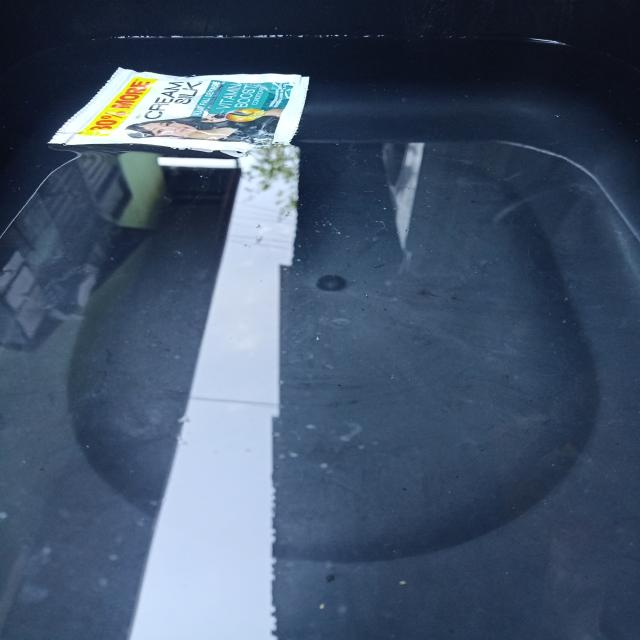Plastic Wrapper: (36, 59, 324, 162)
